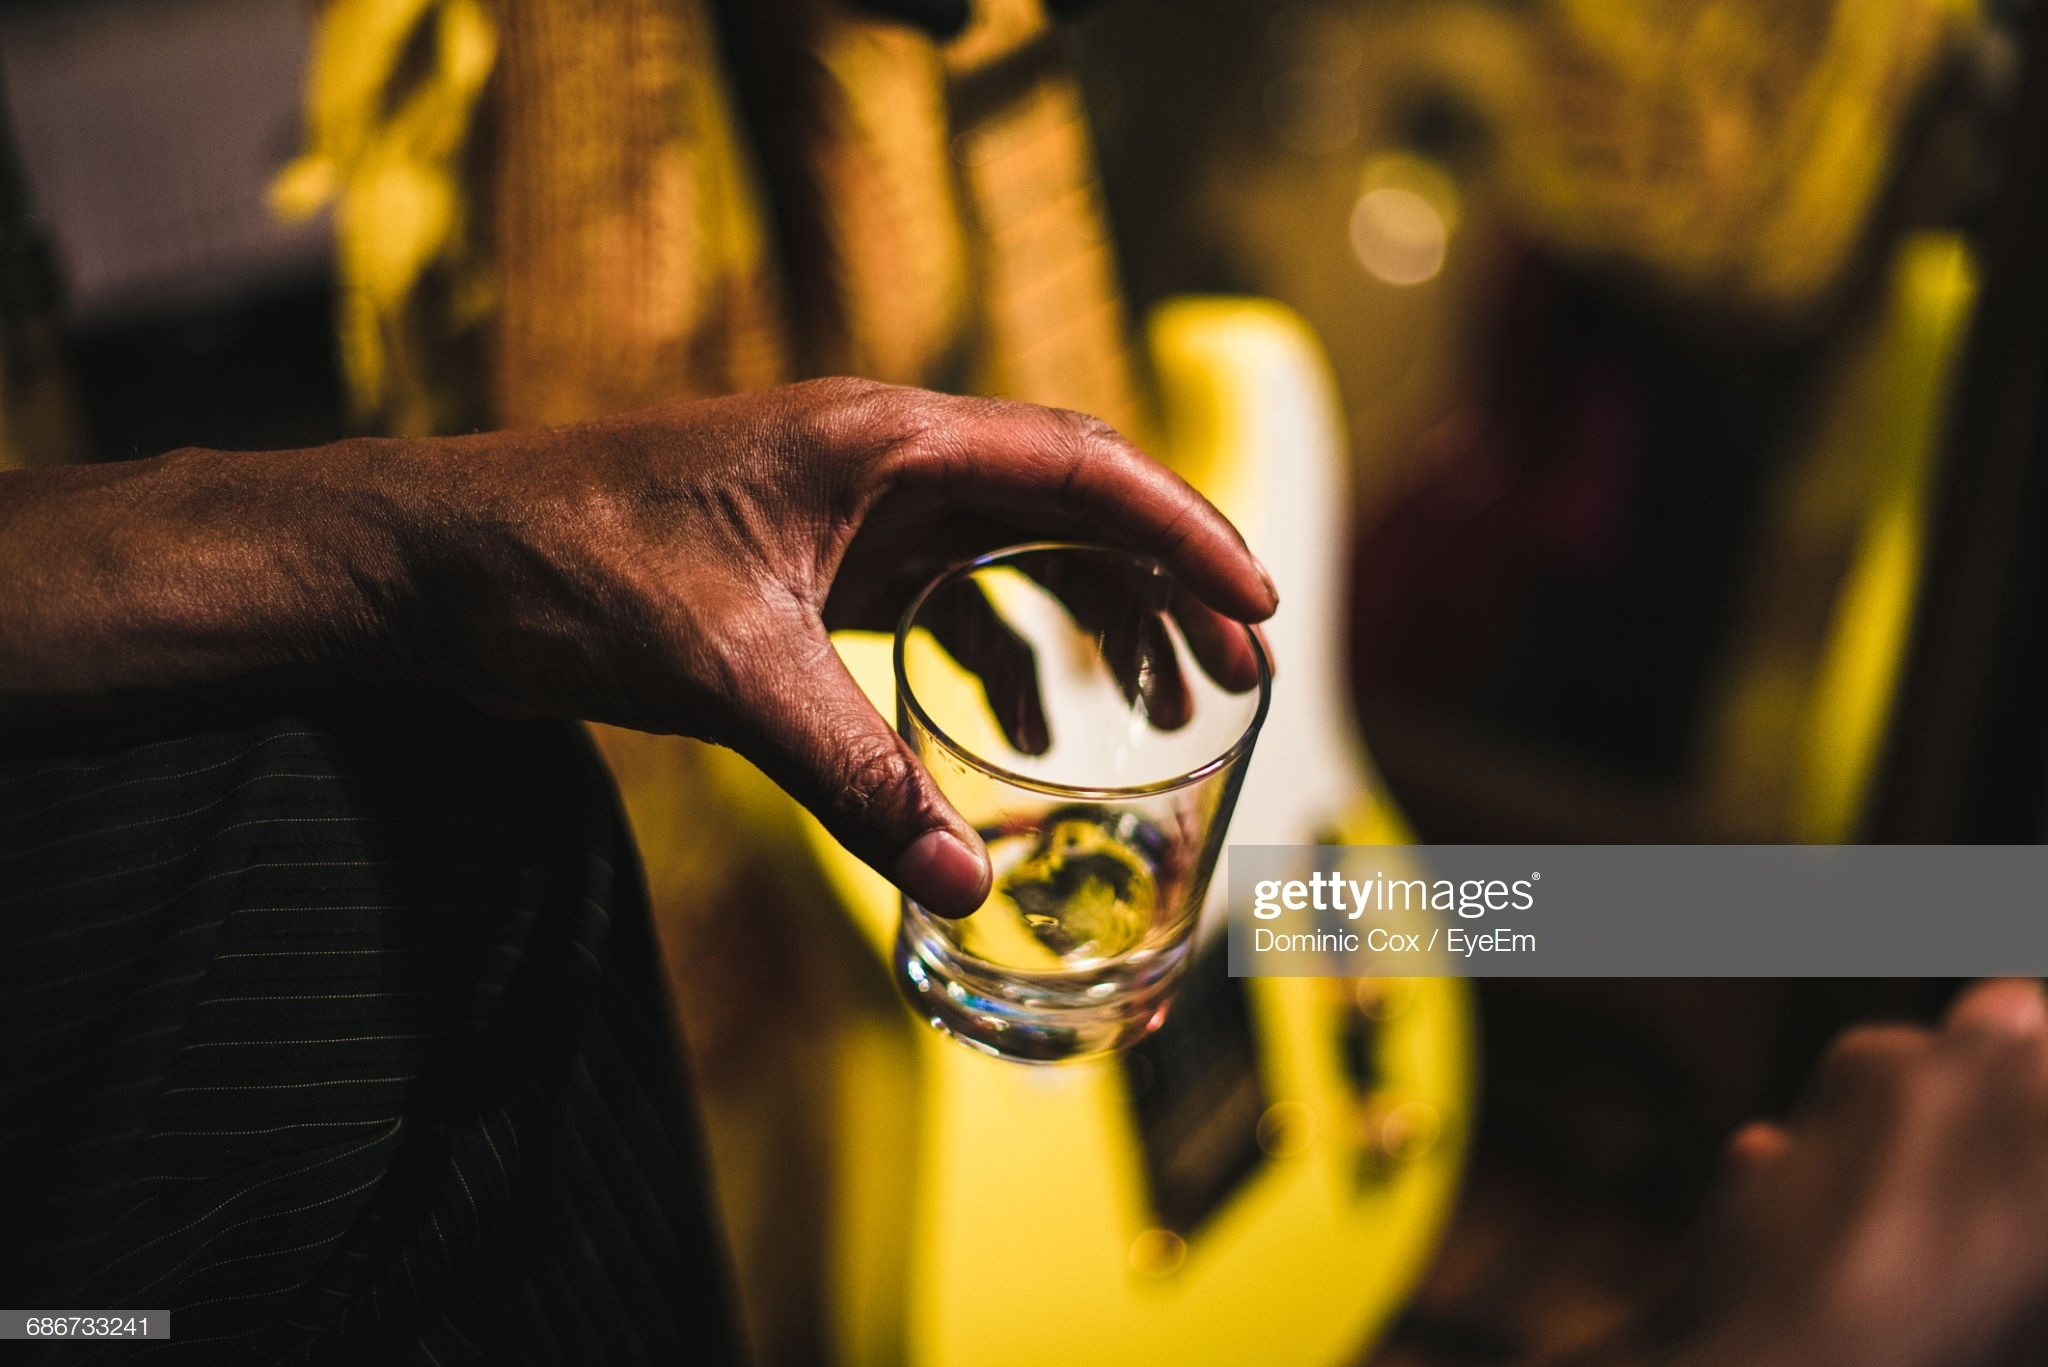whiskey: (880, 552, 1270, 1054)
